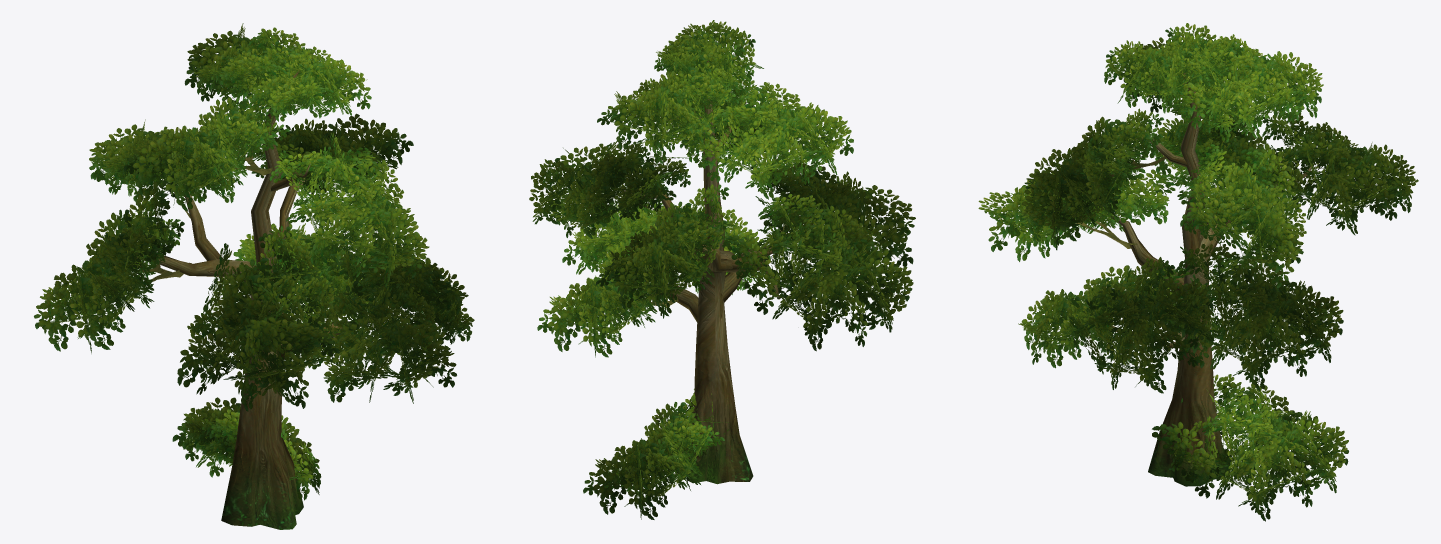
Rendered from chun_shu_003.FBX.
3 renders of one model, left to right at view 1: azimuth 30°, elevation 25°; view 2: azimuth 150°, elevation 25°; view 3: azimuth 270°, elevation 25°, orthographic. The views are drawn at different scales.
Parts seen in each view (by area): view 1: chun_shu_003_a, chun_shu_003_c, chun_shu_003_b; view 2: chun_shu_003_a, chun_shu_003_c, chun_shu_003_b; view 3: chun_shu_003_a, chun_shu_003_b, chun_shu_003_c.
Boxes of the visible parts, x1,y1,x2,y2 form: chun_shu_003_a: (34,23,474,411); chun_shu_003_c: (136,70,389,529); chun_shu_003_b: (172,397,321,500); chun_shu_003_a: (529,20,915,357); chun_shu_003_c: (624,61,786,484); chun_shu_003_b: (583,388,728,519); chun_shu_003_a: (978,23,1418,393); chun_shu_003_b: (1152,374,1348,521); chun_shu_003_c: (1107,73,1313,486).
Bounding box in the file's own units: 1479 × 1722 × 1525.
